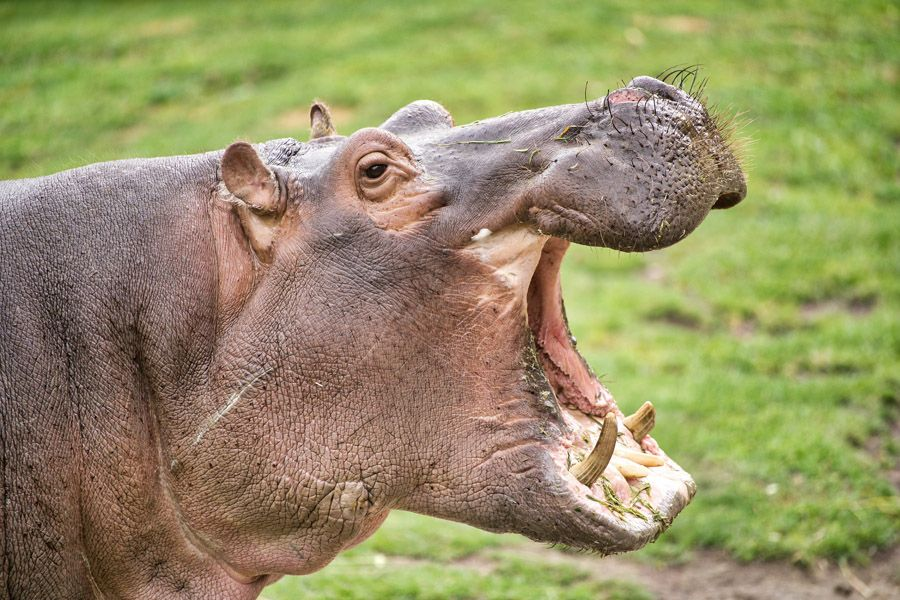Hippopotamus: (1, 72, 750, 596)
